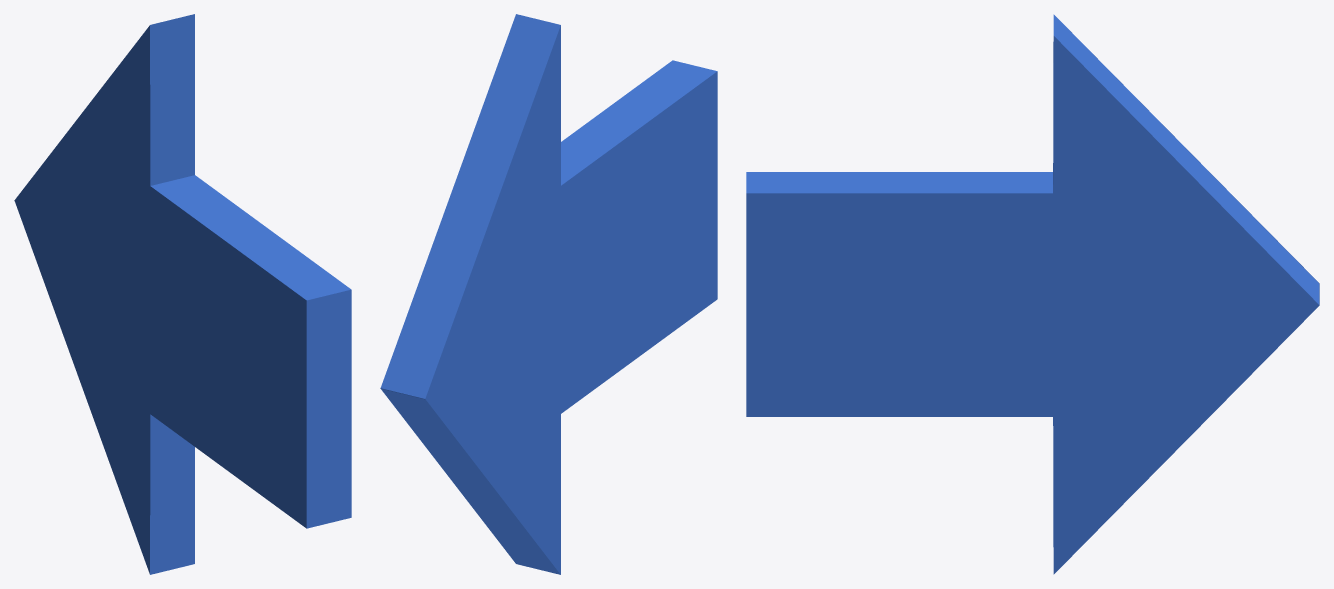
File: arrow.glb
3 views of the same model, side by side, from view 1: azimuth 30°, elevation 25°; view 2: azimuth 150°, elevation 25°; view 3: azimuth 270°, elevation 25° (orthographic).
Visible parts, largest first — view 1: Cube; view 2: Cube; view 3: Cube.
Boxes of the visible parts, x1=… form: Cube: x1=14, y1=14, x2=351, y2=574; Cube: x1=380, y1=14, x2=717, y2=574; Cube: x1=746, y1=14, x2=1319, y2=574.
Size of the model in its own units: 0.2804 by 3.29 by 3.16.
